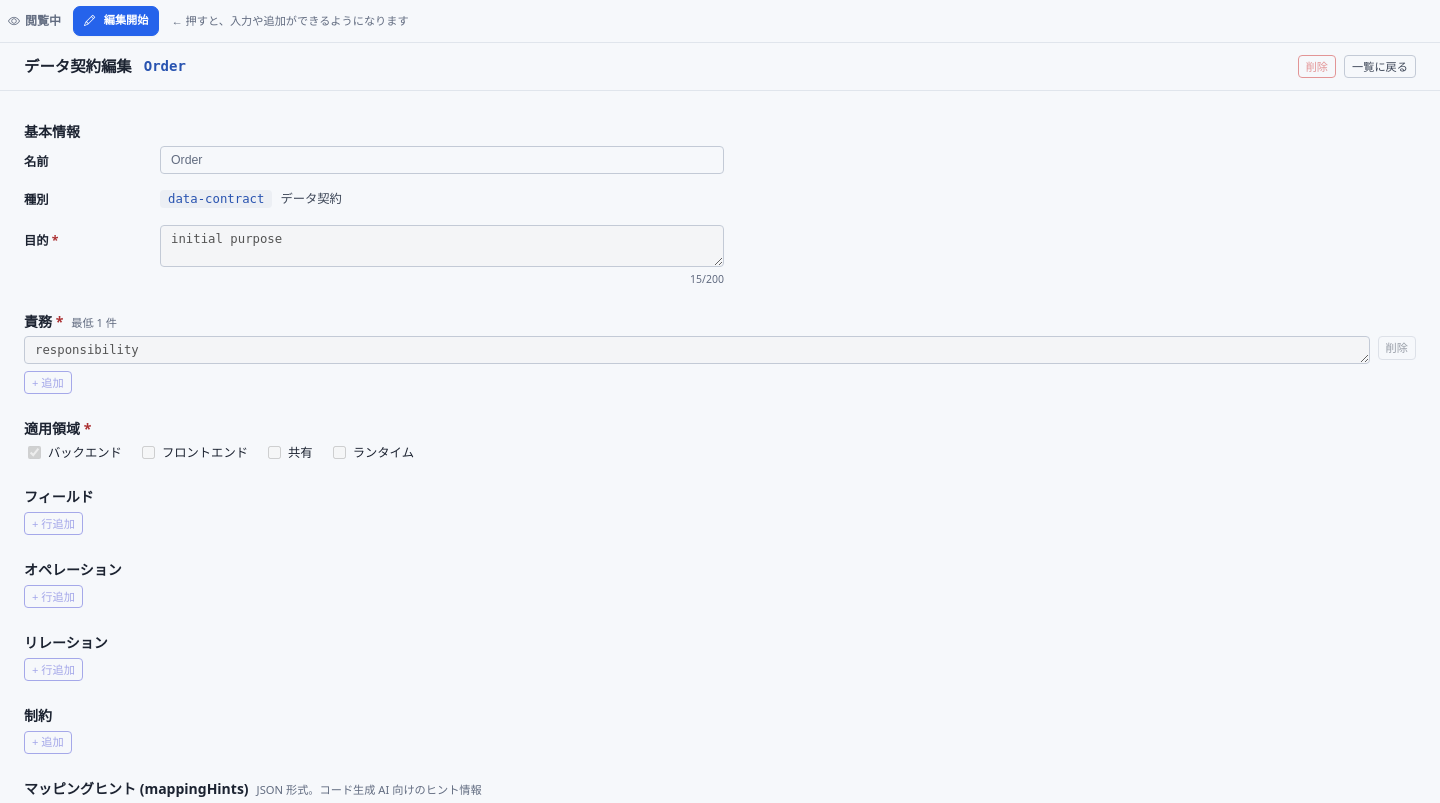
Test: GenericDefinitionEditor — #1368 editSession.save 経路統合 › editSession.save が { ok: false, conflict: { other } } を返したら SaveConflictDialog を表示する
Expected: the text box showing "initial purpose" next to "目的" is shown, [160,225,724,267]
Step 1. Click the button with test id "edit-mode-start" → (116, 21), box [73,6,160,36]
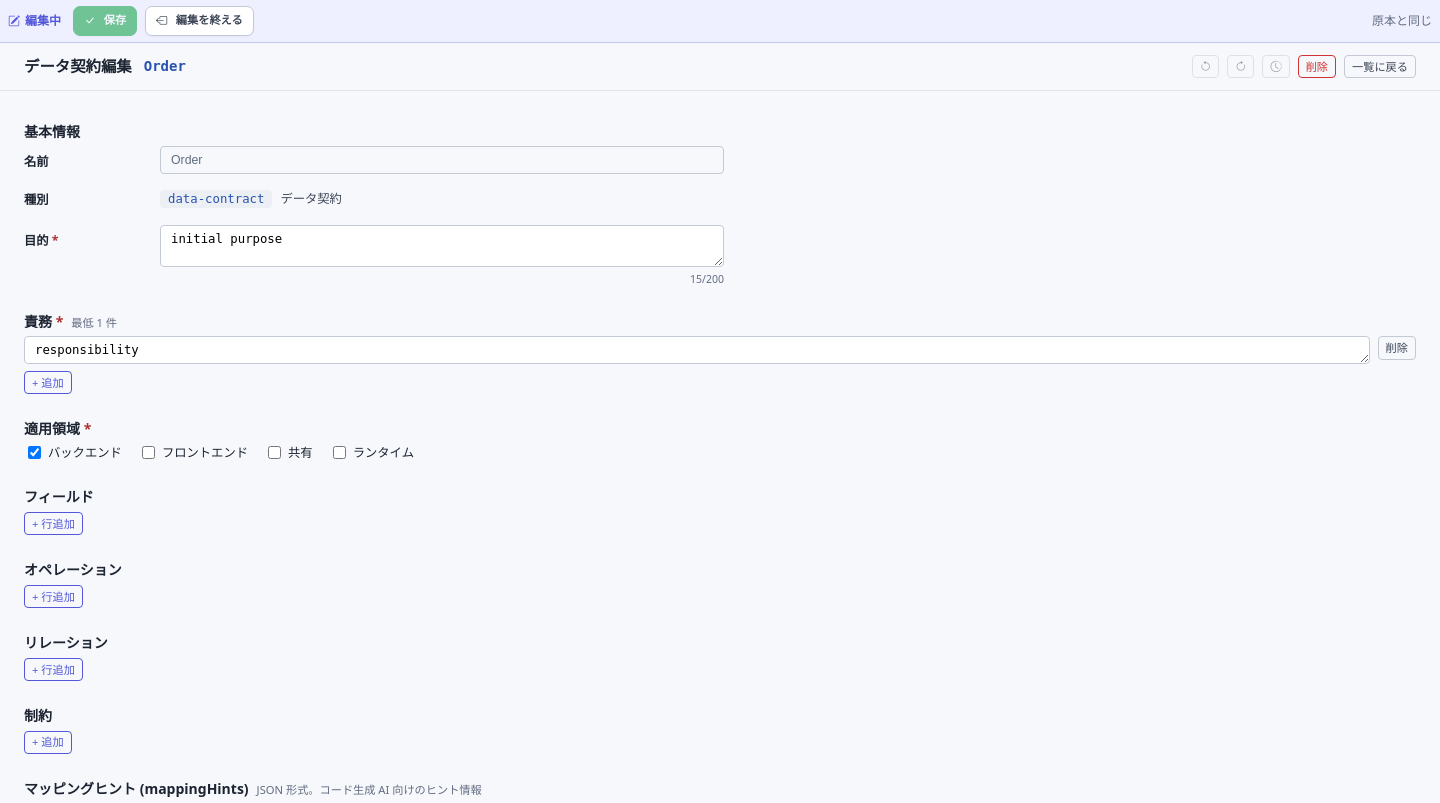
Expected: the button with test id "edit-mode-save" is shown, [73,6,137,36]
Step 2. Replace the text in the text box showing "initial purpose" next to "目的" with "edited" → (442, 246), box [160,225,724,267]
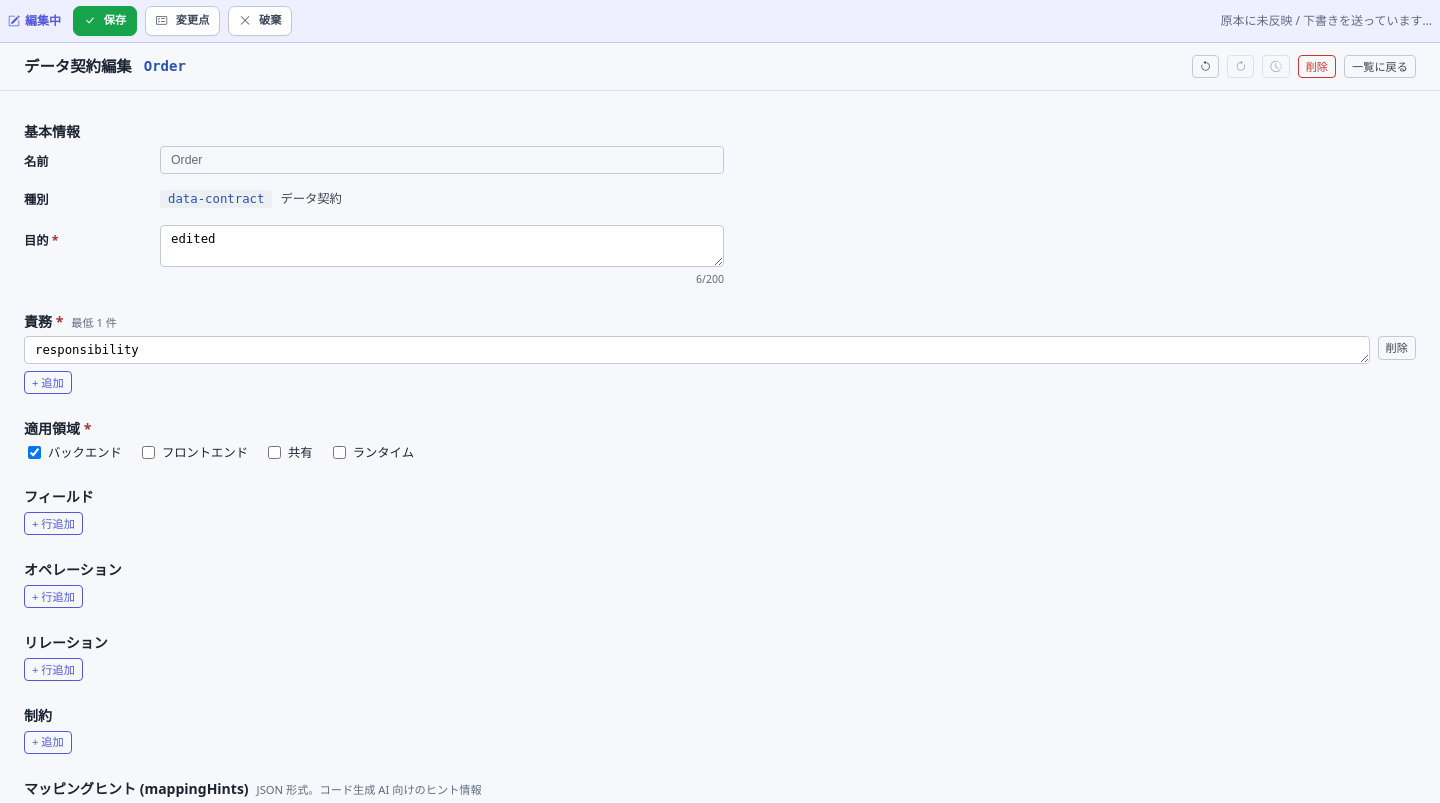
Step 3. Click the button "保存" → (105, 21), box [73,6,137,36]
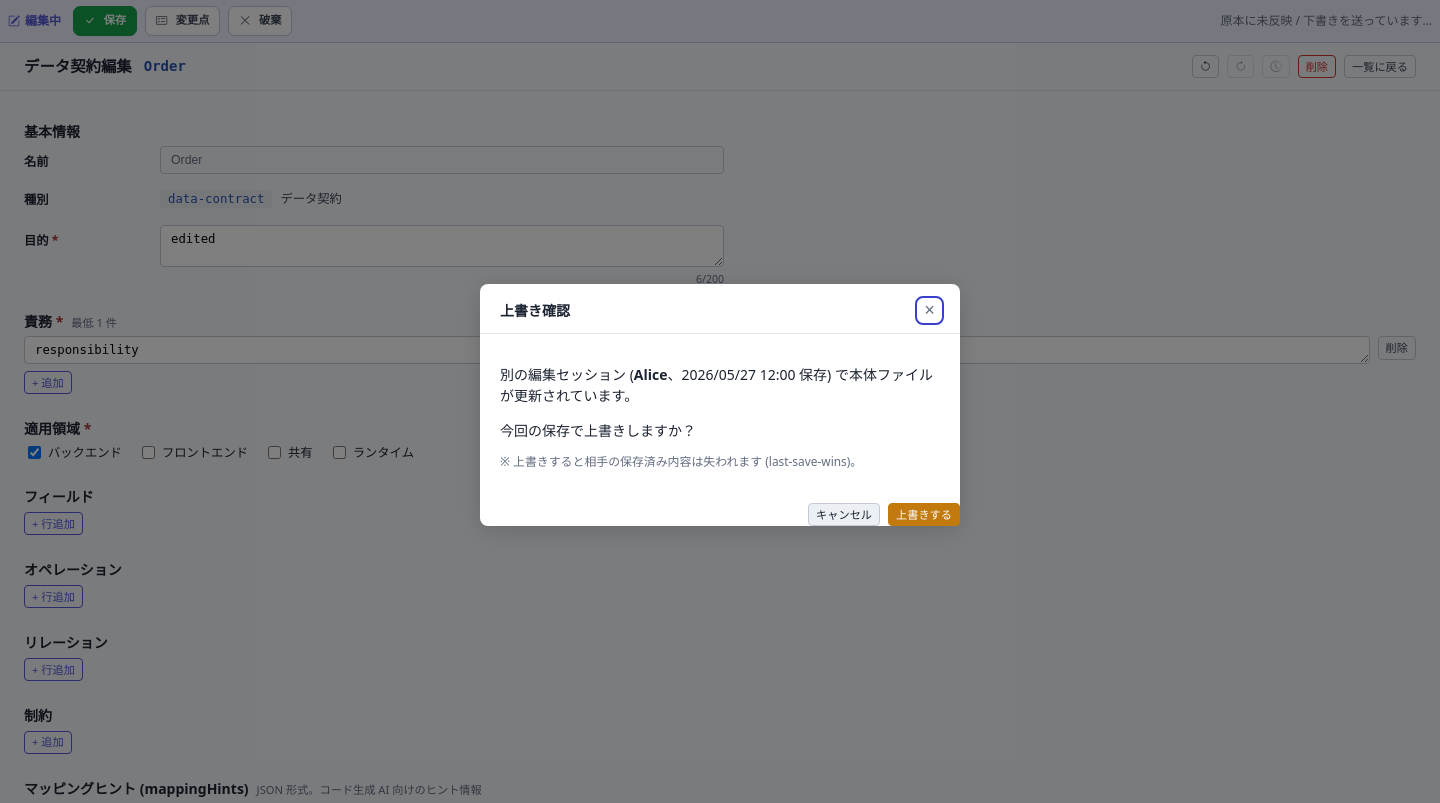
Expected: the button with test id "overwrite-confirm-btn" is shown, [888,503,960,526]
Expected: the text "Alice" is shown, [634,365,668,384]
